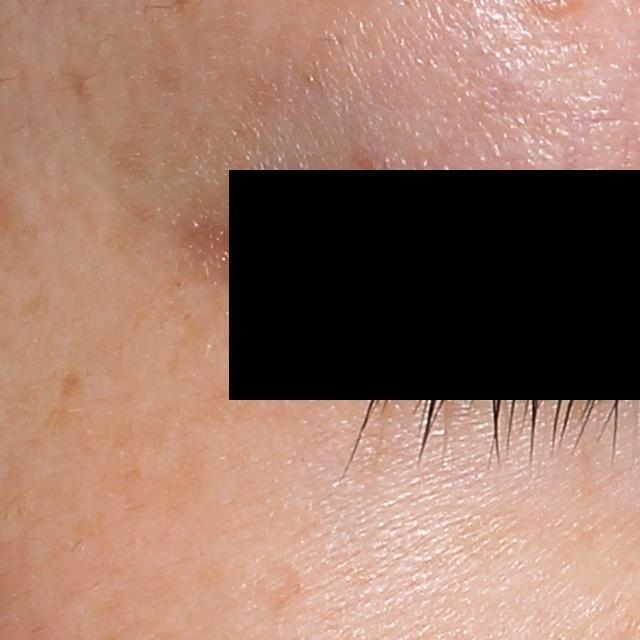atrophic_scar: (252, 561, 305, 616)
melasma: (42, 376, 149, 456), (151, 291, 231, 386), (59, 357, 88, 405)
